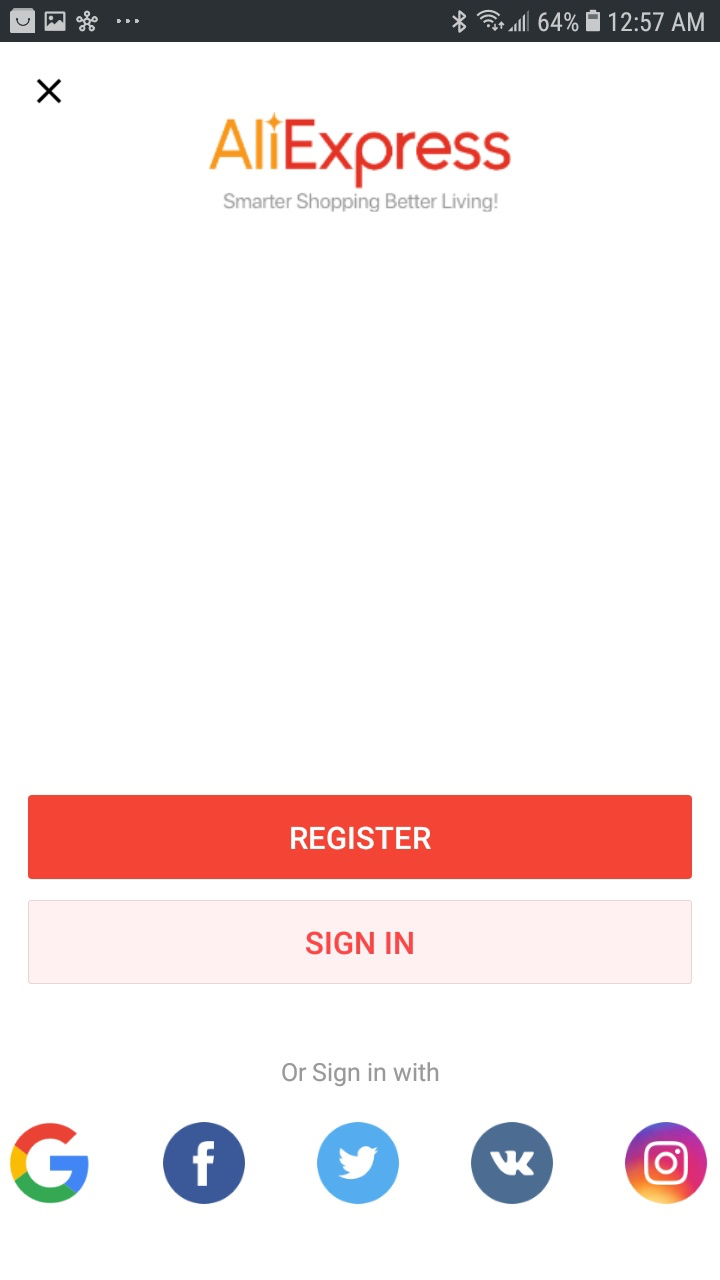Icon: (163, 1122, 246, 1205), (317, 1122, 400, 1204), (10, 1122, 90, 1204), (37, 79, 63, 105)
Image: (209, 112, 512, 190), (625, 1121, 708, 1205), (471, 1122, 554, 1205)
Text: (224, 193, 499, 213), (282, 1061, 439, 1087)
TextButton: (29, 795, 692, 880), (29, 900, 692, 984)
UpperTaskBar: (1, 1, 720, 43)
